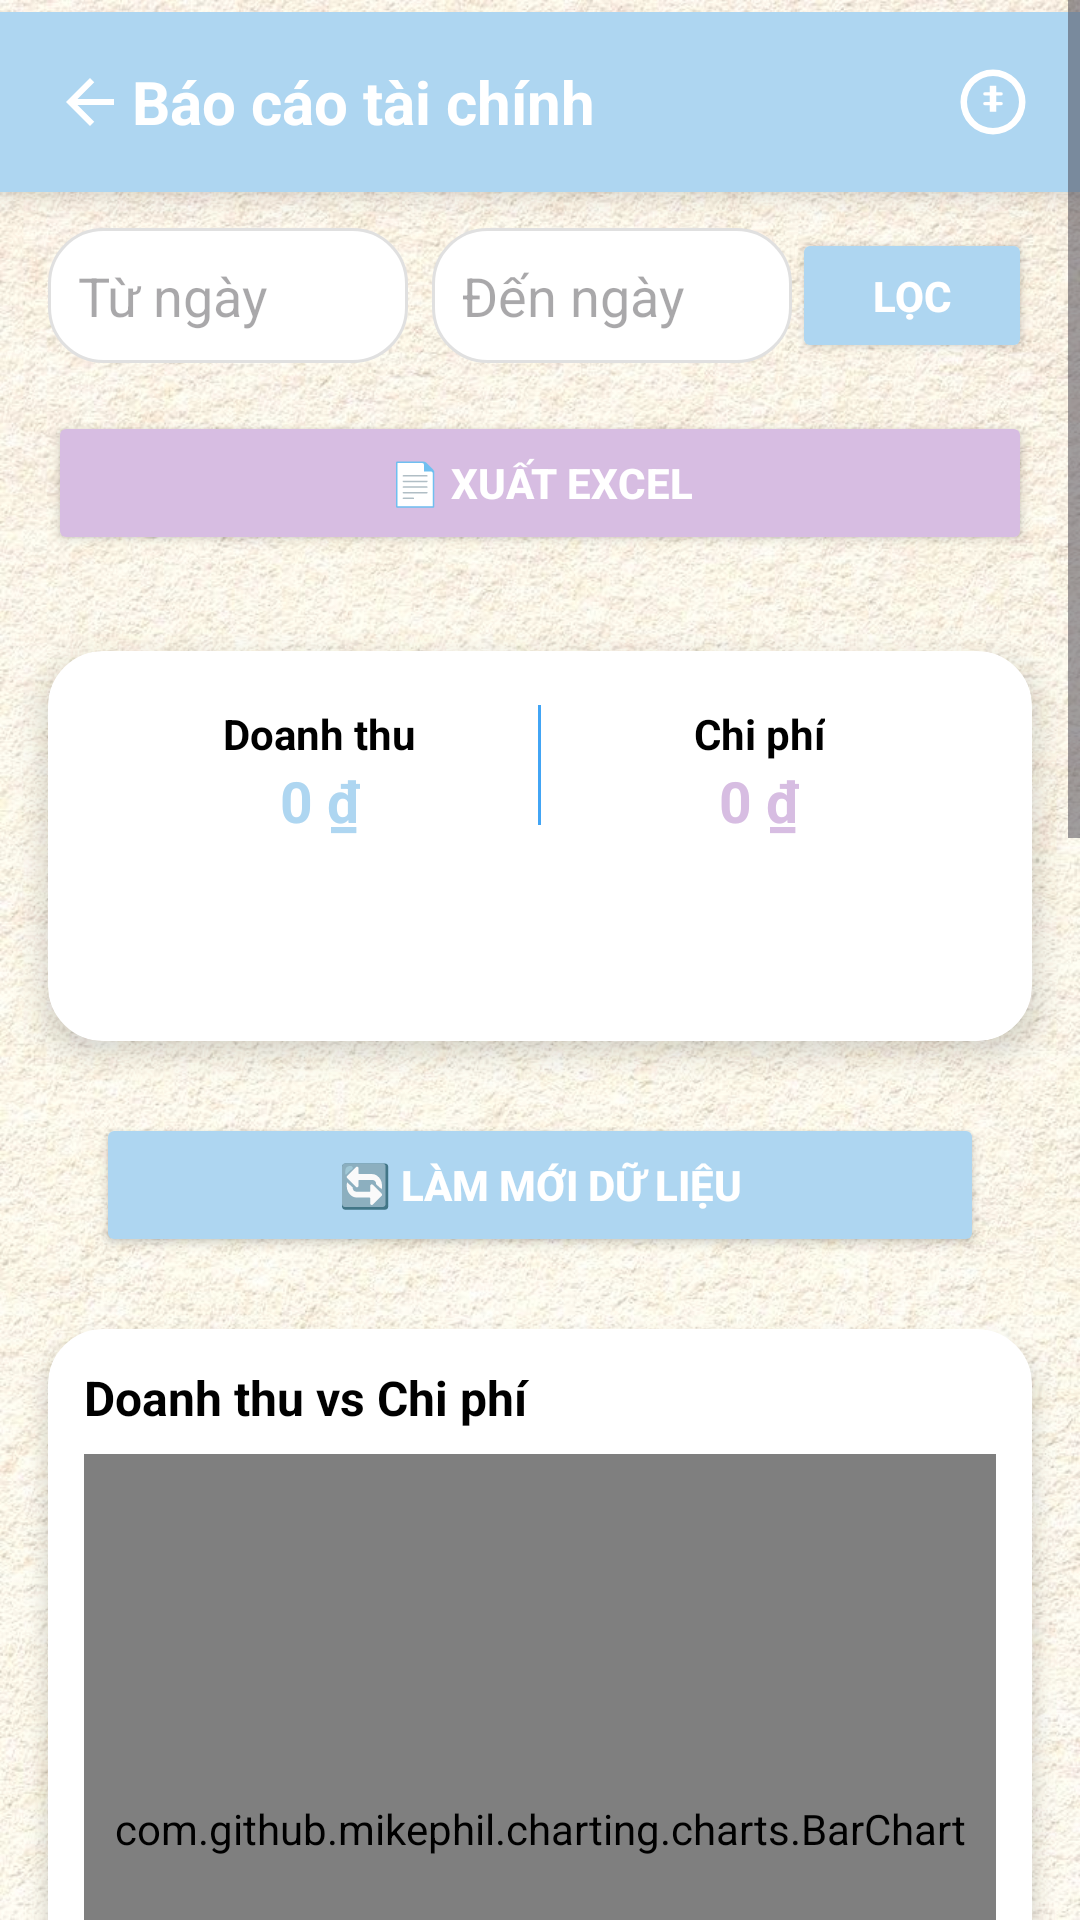

Named icons in this screenshot (1080x1920) and their centers, point (x, y):
back: point (90, 102)
loinhuan: point (993, 102)
